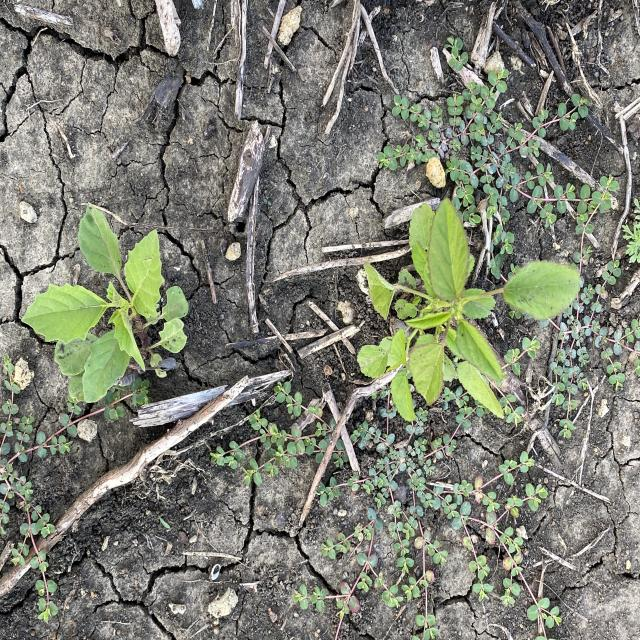CutleafGroundcherry: (21, 200, 194, 404)
PricklySida: (344, 192, 588, 427)
SpottedSpurge: (201, 378, 565, 639), (371, 33, 614, 282), (0, 352, 150, 626), (508, 173, 639, 442)
